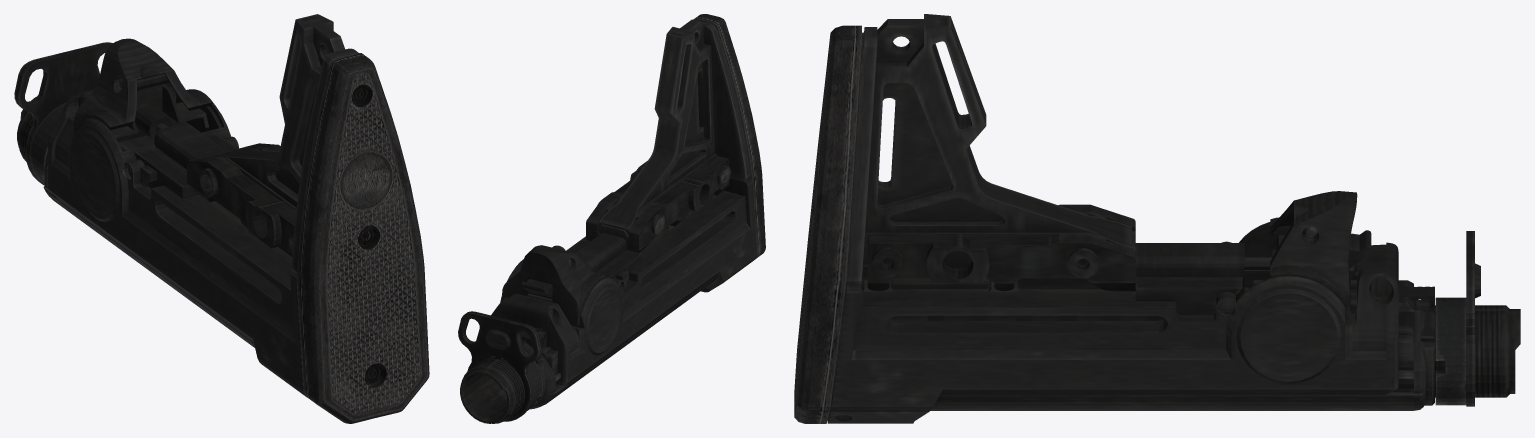
The picture shows the model from 3 angles, left to right: view 1: azimuth 30°, elevation 25°; view 2: azimuth 150°, elevation 25°; view 3: azimuth 270°, elevation 25°; orthographic projection. The views are drawn at different scales.
Parts seen in each view (by area): view 1: TW_5b0800175acfc400153aebd4_PZ_Import; view 2: TW_5b0800175acfc400153aebd4_PZ_Import; view 3: TW_5b0800175acfc400153aebd4_PZ_Import.
Boxes of the visible parts, <box> form: TW_5b0800175acfc400153aebd4_PZ_Import: <box>14,14,429,423</box>; TW_5b0800175acfc400153aebd4_PZ_Import: <box>458,14,765,423</box>; TW_5b0800175acfc400153aebd4_PZ_Import: <box>794,14,1520,423</box>.
Bounding box in the file's own units: 0.028 × 0.1348 × 0.0796.
1 material, 1 textured.
